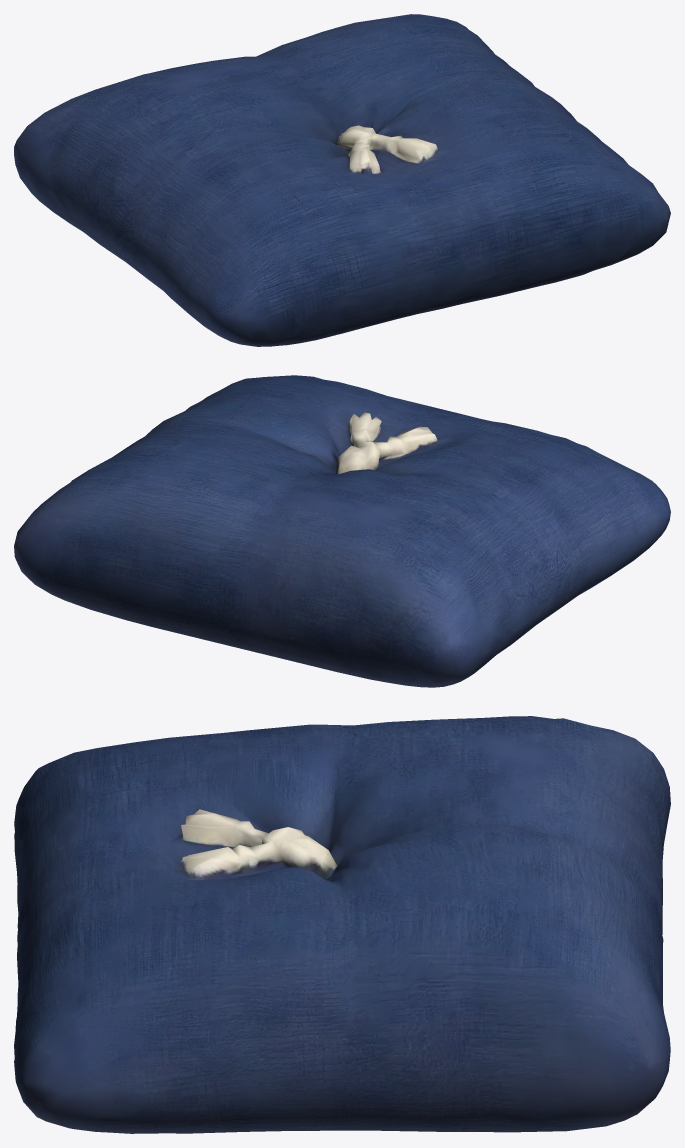
File: zabuton.glb
3 views of the same model, one above another, from view 1: azimuth 30°, elevation 25°; view 2: azimuth 150°, elevation 25°; view 3: azimuth 270°, elevation 25° (orthographic). The views are drawn at different scales.
Parts seen in each view (by area): view 1: tripo_node_fe3851df-1fda-4508-89bf-0c05d1c9fb8a; view 2: tripo_node_fe3851df-1fda-4508-89bf-0c05d1c9fb8a; view 3: tripo_node_fe3851df-1fda-4508-89bf-0c05d1c9fb8a.
Boxes of the visible parts, left/top/right/bottom form: tripo_node_fe3851df-1fda-4508-89bf-0c05d1c9fb8a: left=14, top=14, right=670, bottom=346; tripo_node_fe3851df-1fda-4508-89bf-0c05d1c9fb8a: left=14, top=375, right=670, bottom=687; tripo_node_fe3851df-1fda-4508-89bf-0c05d1c9fb8a: left=14, top=716, right=670, bottom=1133.
Bounding box in the file's own units: 1 × 0.3081 × 0.8904.
1 material, 1 textured.
